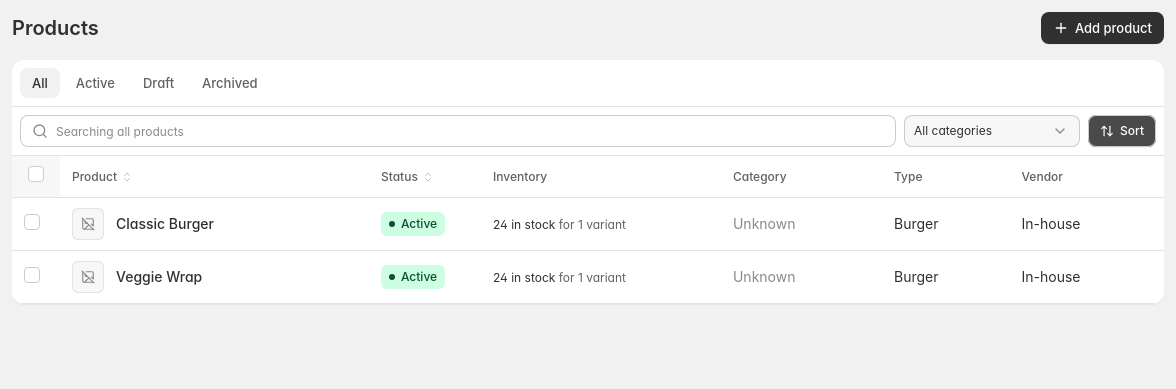
Scenario: bulk product actions › selects every row on the page, and only this page
Expected: the link "Classic Burger" is shown, top-left (116, 214), bottom-right (214, 234)
Click the checkbox named "Select every row on this page".
click(36, 174)  # box top-left (28, 166), bottom-right (44, 182)
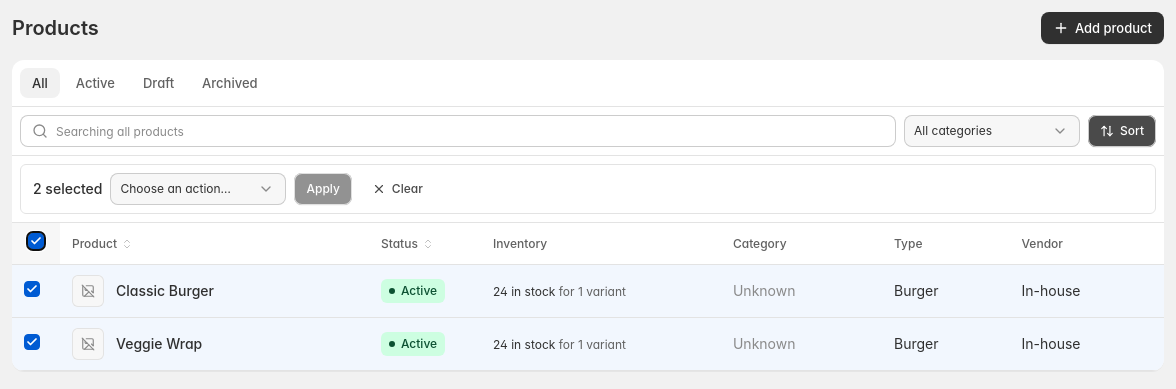
Result: the text "2 selected" is shown at top-left (33, 179), bottom-right (102, 199)
